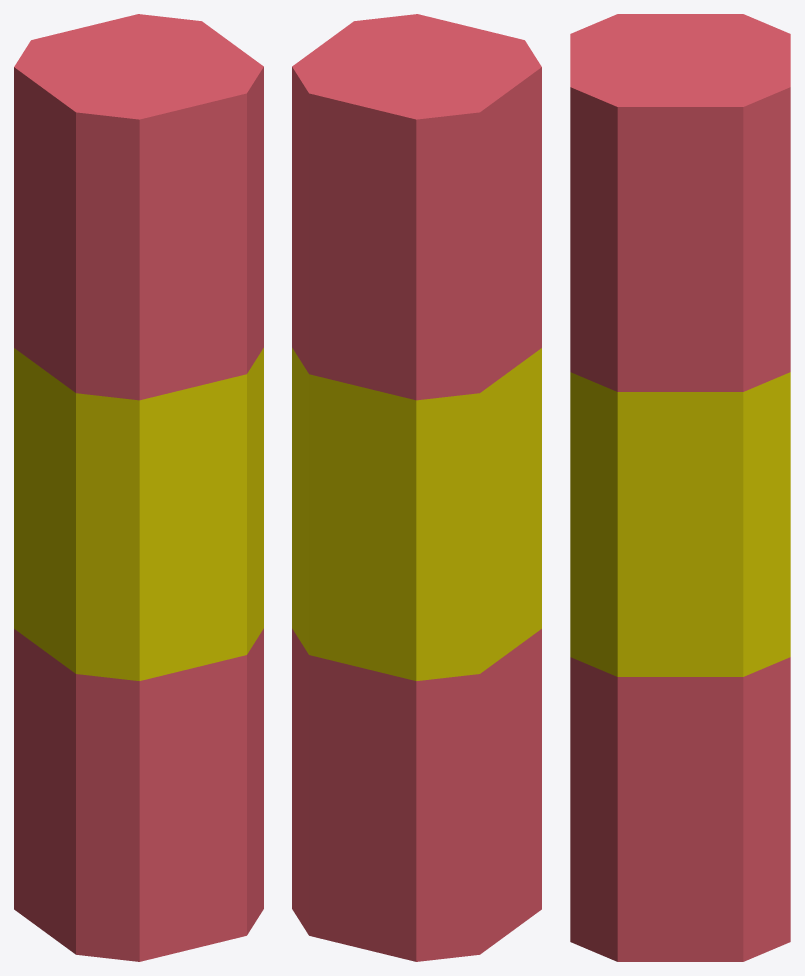
The model's file is decoration-pillar-stripe.fbx.
3 renders of one model, left to right at view 1: azimuth 30°, elevation 25°; view 2: azimuth 150°, elevation 25°; view 3: azimuth 270°, elevation 25°, orthographic.
Visible parts, largest first — view 1: decoration-pillar-stripe; view 2: decoration-pillar-stripe; view 3: decoration-pillar-stripe.
Part boxes in pixels (x1,y1,x2,y2): decoration-pillar-stripe: [14, 14, 263, 961]; decoration-pillar-stripe: [292, 14, 541, 961]; decoration-pillar-stripe: [570, 14, 790, 961].
Bounding box in the file's own units: 0.7004 × 3 × 0.7004.
